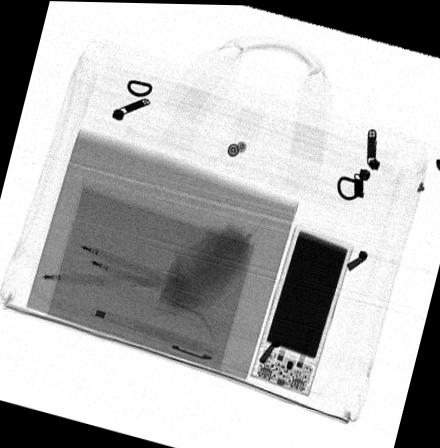Powerbank: (248, 222, 354, 395)
